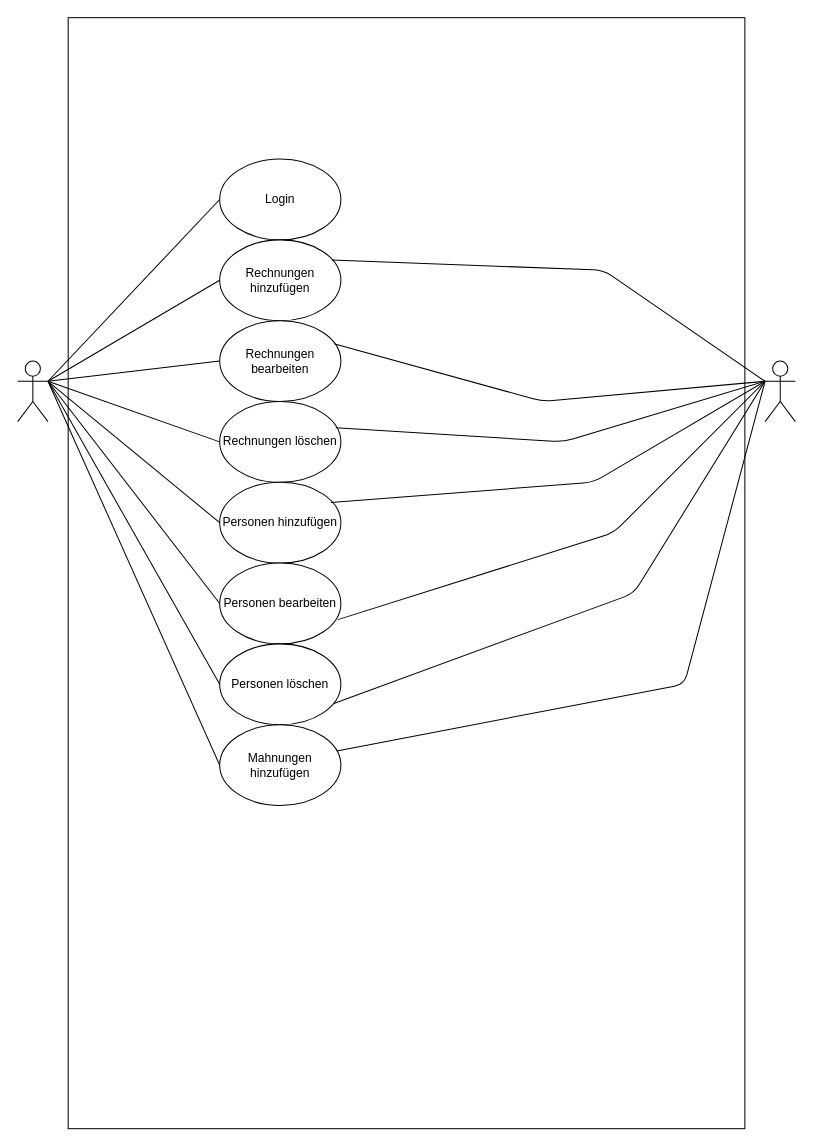
Some shapes in this 813 by 1146 pixel diagram are drawn without their labels. The centre of each missing label's shape, as x and y in pixels:
Actor: point 32,391
Bank: point 779,391
